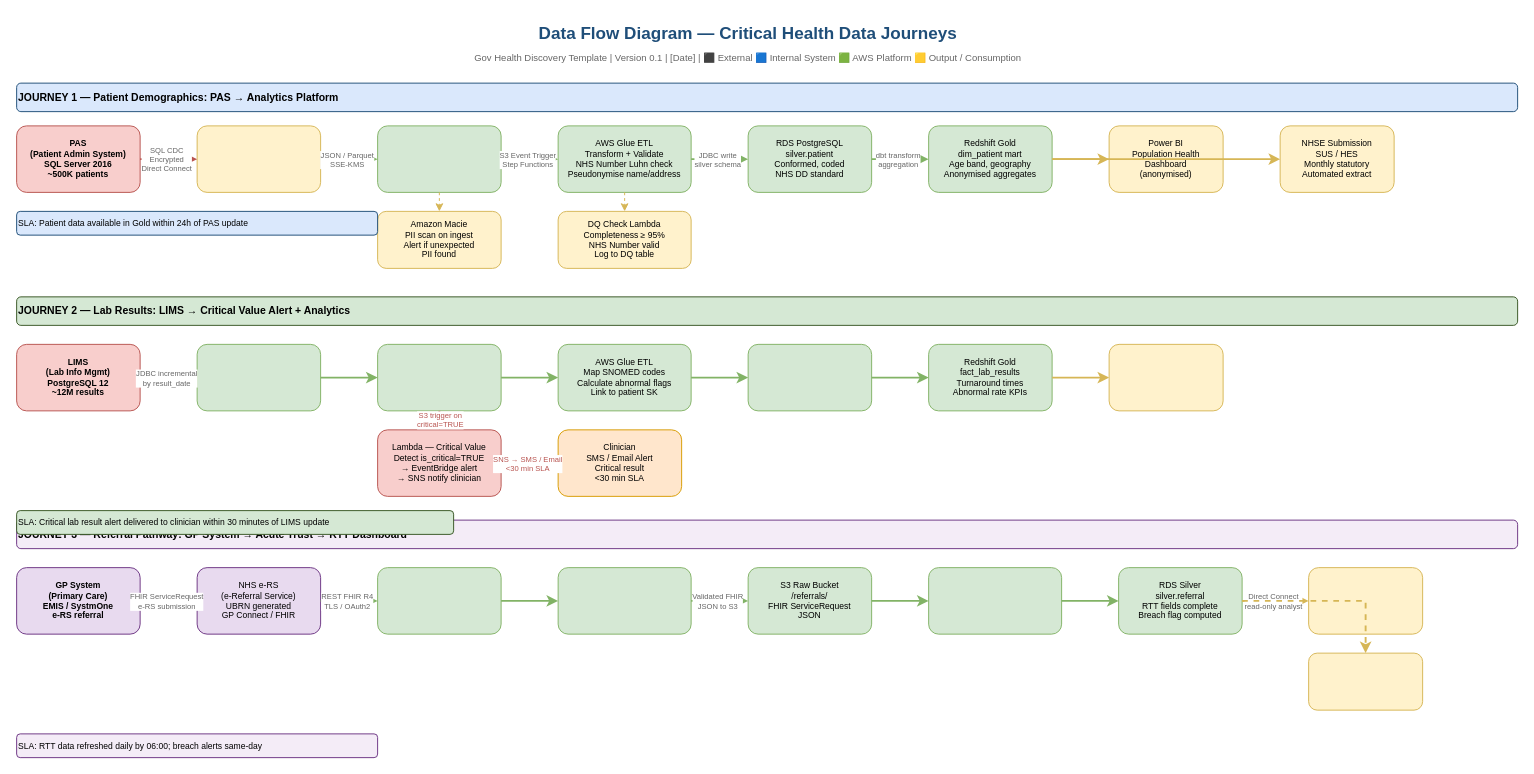
The diagram is 1534 pixels wide and 774 high, and some of its shapes have lost their labels. Here are the shapes that lost their labels. From the top down, the centre of each, then its label:
At (x=258, y=158): "AWS DMS CDC Replication Daily + ongoing Port 1433 → S3".
At (x=439, y=158): "S3 — Raw Bucket /patient/yyyy/mm/dd/ Format: JSON (FHIR) Encrypted: SSE-KMS".
At (x=258, y=377): "AWS Glue LIMS Connector PostgreSQL JDBC Incremental by date".
At (x=439, y=377): "S3 Raw Bucket /lab-results/ SNOMED CT coded JSON format".
At (x=809, y=377): "RDS Silver silver.lab_result silver.specimen Linked to patient".
At (x=1165, y=377): "Pathology Dashboard (Power BI) TAT, volume, QC".
At (x=439, y=600): "AWS API Gateway FHIR R4 Endpoint /Referral resource Auth: NHS Login".
At (x=624, y=600): "Lambda Validate referral Set RTT clock start Check specialty code".
At (x=995, y=600): "AWS Glue Map to silver.referral Calculate RTT weeks Flag 18wk breach".
At (x=1365, y=600): "RTT Dashboard Power BI 18-week breaches Pathway waiting".
At (x=1365, y=681): "NHSE RTT Return Monthly submission 18-week standard Automated".
